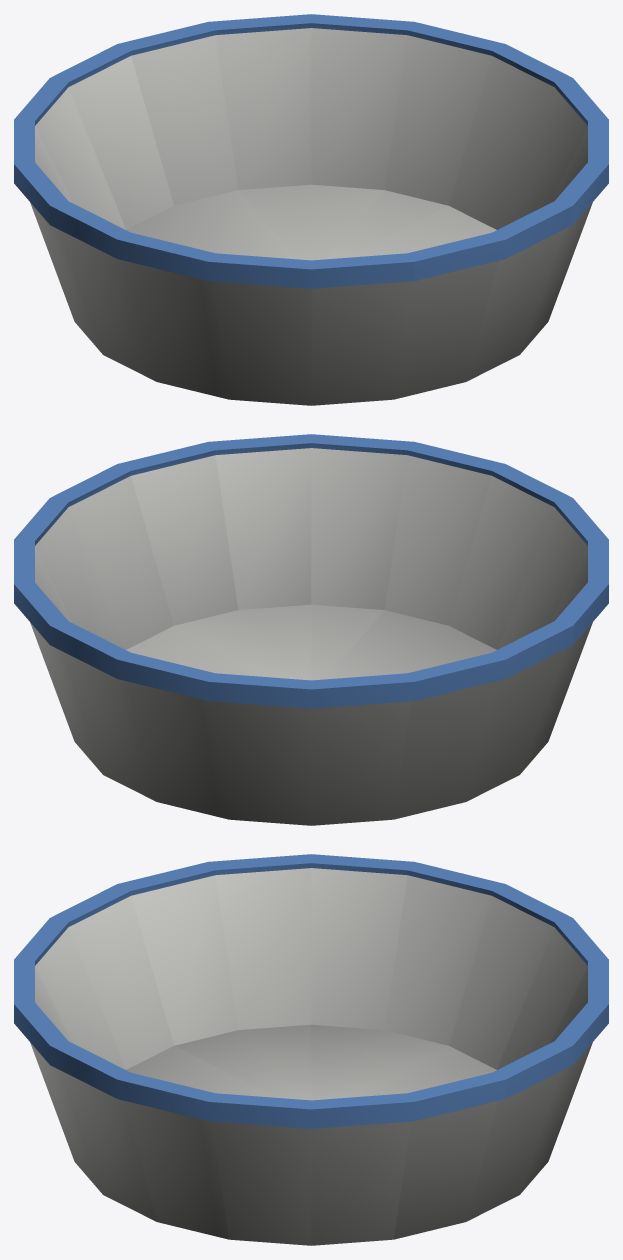
File: dog_bowl.glb
3 renders of one model, top to bottom at view 1: azimuth 30°, elevation 25°; view 2: azimuth 150°, elevation 25°; view 3: azimuth 270°, elevation 25°, orthographic.
Visible parts, largest first — view 1: static; view 2: static; view 3: static.
Part boxes in pixels (x1,y1,x2,y2): static: (14, 14, 608, 405); static: (14, 434, 608, 825); static: (14, 854, 608, 1245).
Bounding box in the file's own units: 0.226 × 0.067 × 0.2226.
